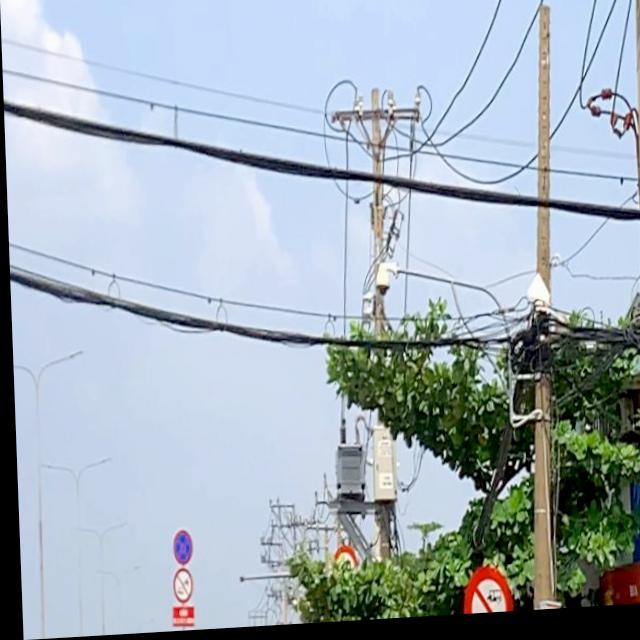Cam dung xe va do xe: (166, 529, 190, 570)
